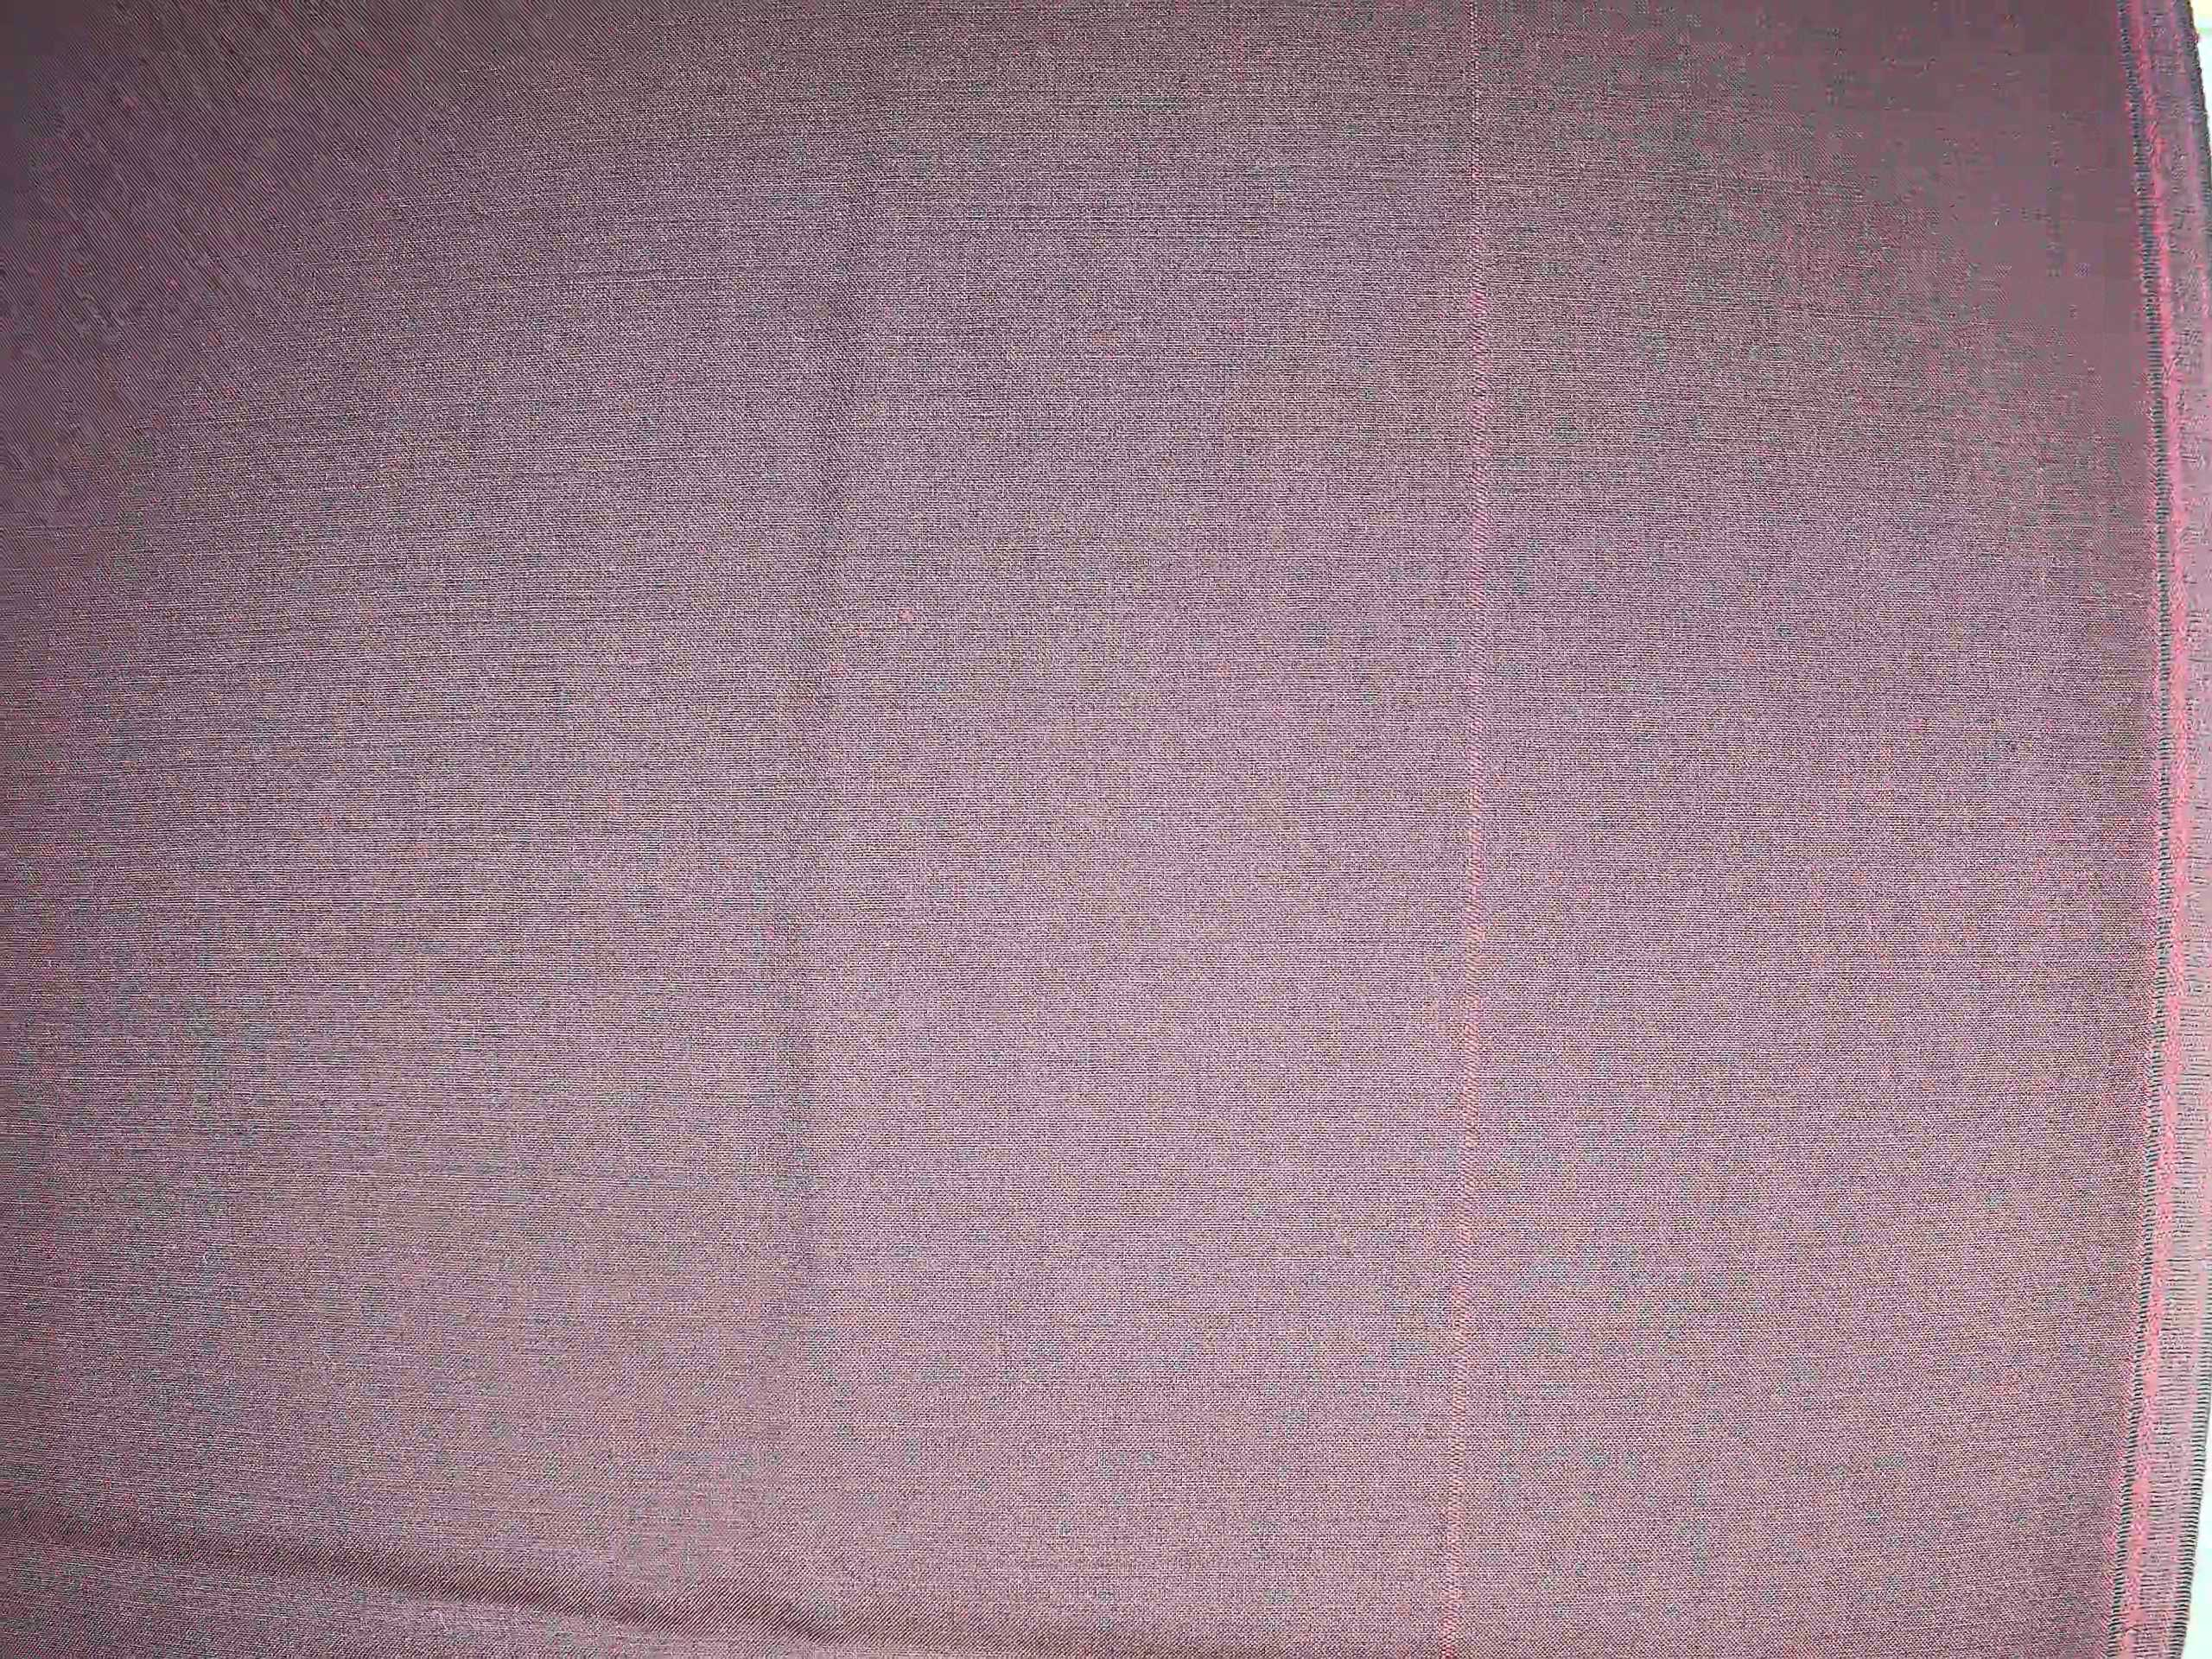lacking-warp: (1440, 14, 1501, 1656)
